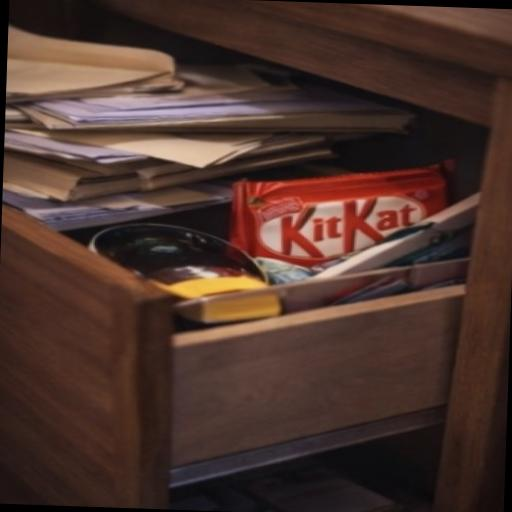kitkat: (175, 152, 512, 349)
